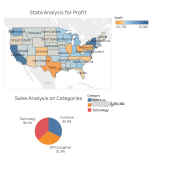

The dashboard page shown, as its layout file describes it:
{"tool":"tableau","page":{"name":"Dashboard 2","canvas":[1000,800],"ordinal":1},"visuals":[{"type":"worksheet","title":"State Analysis for Profit","mark":"Automatic","box":[17,29,432,329]},{"type":"legend","title":"State Analysis for Profit","param":"[federated.0vn90mb0pusnq61cdpyiq1mtcl7p].[sum:Profit:qk]","box":[458,59,140,76]},{"type":"worksheet","title":"Categories","mark":"Pie","box":[15,372,358,263]},{"type":"legend","title":"Categories","param":"[federated.0vn90mb0pusnq61cdpyiq1mtcl7p].[none:Category:nk]","box":[348,372,140,78]},{"type":"legend","title":"Categories","param":"[federated.0vn90mb0pusnq61cdpyiq1mtcl7p].[sum:Sales:qk]","box":[363,387,140,38]}]}

Visuals, with their boxes on the page's 1000x800 design canvas (x1, y1, x2, y2). These are canvas units, not pixel positions in the 192x192 screenshot, which may show the page scaled, cropped or inside an application window:
"State Analysis for Profit" worksheet: (17, 29, 449, 358)
"State Analysis for Profit" legend: (458, 59, 598, 135)
"Categories" worksheet (Pie marks): (15, 372, 373, 635)
"Categories" legend: (348, 372, 488, 450)
"Categories" legend: (363, 387, 503, 425)
